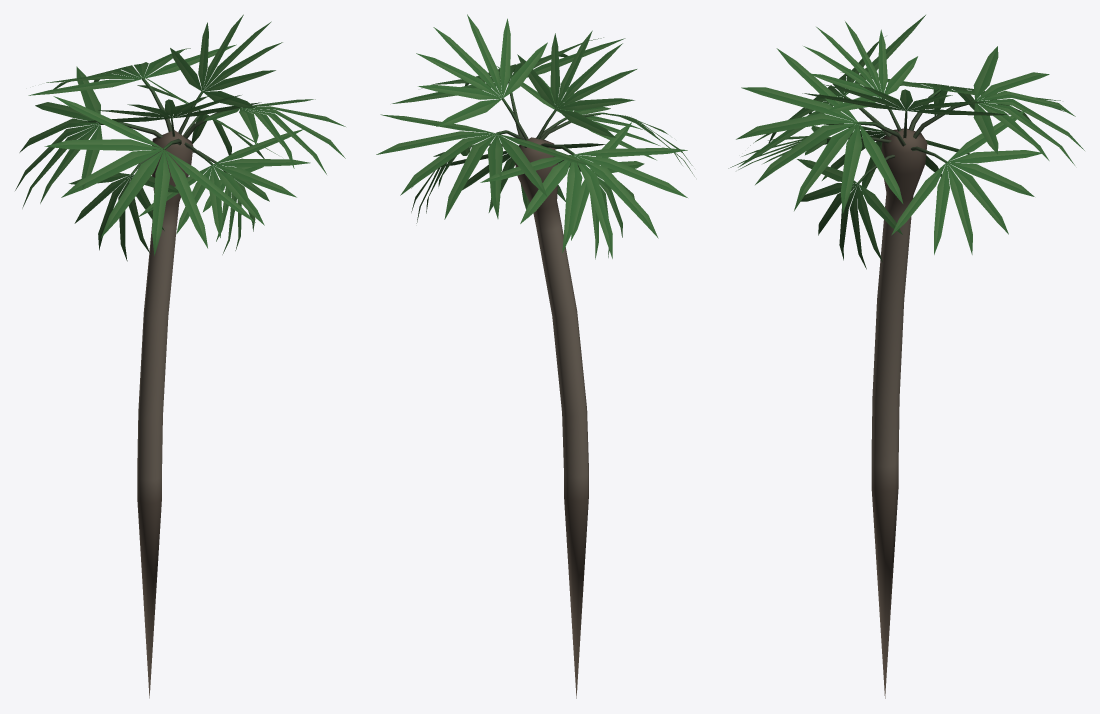
Rendered from trees-palms-ferns-bushy-palm_v2.fbx.
The picture shows the model from 3 angles, left to right: view 1: azimuth 30°, elevation 25°; view 2: azimuth 150°, elevation 25°; view 3: azimuth 270°, elevation 25°; orthographic projection. The views are drawn at different scales.
Visible parts, largest first — view 1: Bushy Palm_v2; view 2: Bushy Palm_v2; view 3: Bushy Palm_v2.
Boxes of the visible parts, bbox=[...] form: Bushy Palm_v2: bbox=[15, 14, 345, 698]; Bushy Palm_v2: bbox=[376, 14, 694, 698]; Bushy Palm_v2: bbox=[728, 15, 1084, 698].
Bounding box in the file's own units: 3.76 × 8 × 3.84.
